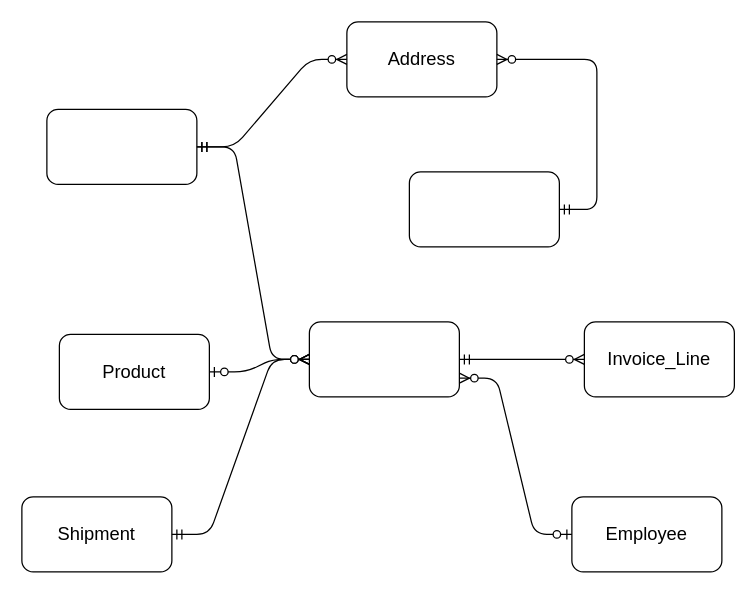
The diagram is 756 pixels wide and 594 high, and some of its shapes have lost their labels. The box of each missing label's shape, as (x1, y1, x2, y2) in pixels:
Customer: (46, 108, 197, 184)
Invoice: (308, 321, 459, 397)
Province: (408, 171, 559, 247)
